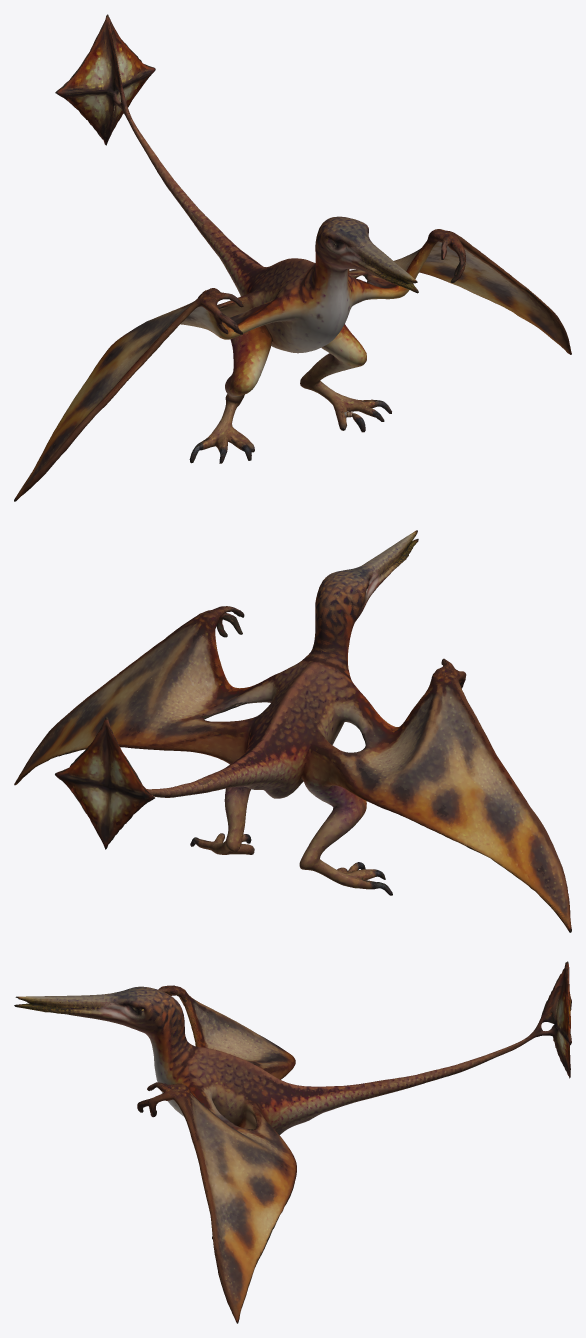
3 renders of one model, top to bottom at view 1: azimuth 30°, elevation 25°; view 2: azimuth 150°, elevation 25°; view 3: azimuth 270°, elevation 25°, orthographic. The views are drawn at different scales.
Parts seen in each view (by area): view 1: world; view 2: world; view 3: world.
Boxes of the visible parts, <box> form: world: <box>14,14,571,501</box>; world: <box>14,530,571,932</box>; world: <box>14,961,571,1323</box>.
Size of the model in its own units: 1.2 by 0.5943 by 1.17.
Materials: 1 (1 with a texture image).
